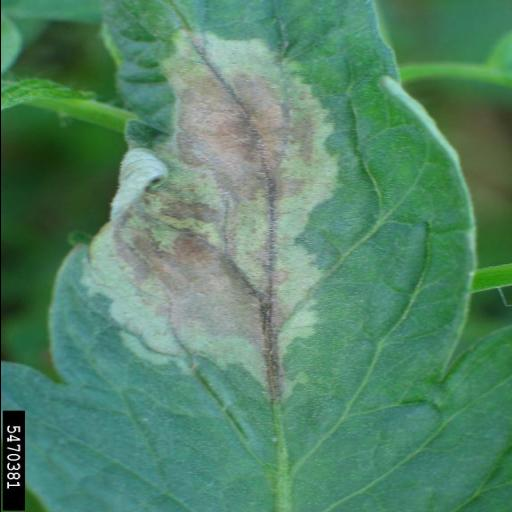disease_tomato: (39, 4, 480, 512)
